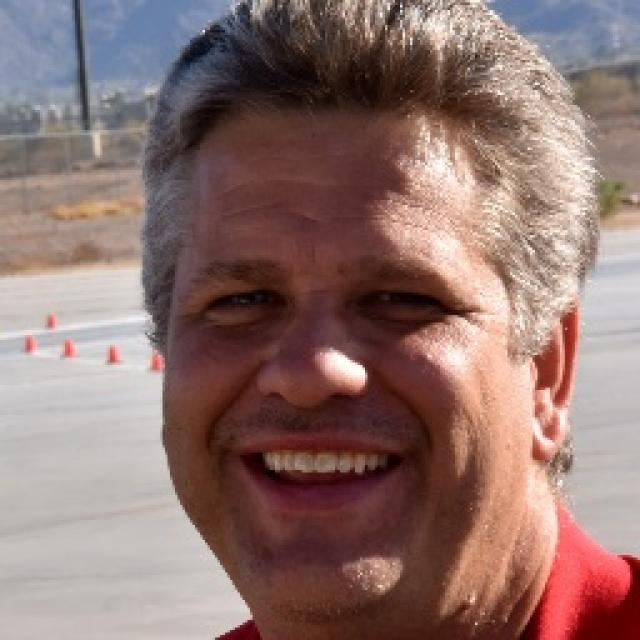earlobe: (535, 288, 583, 462)
